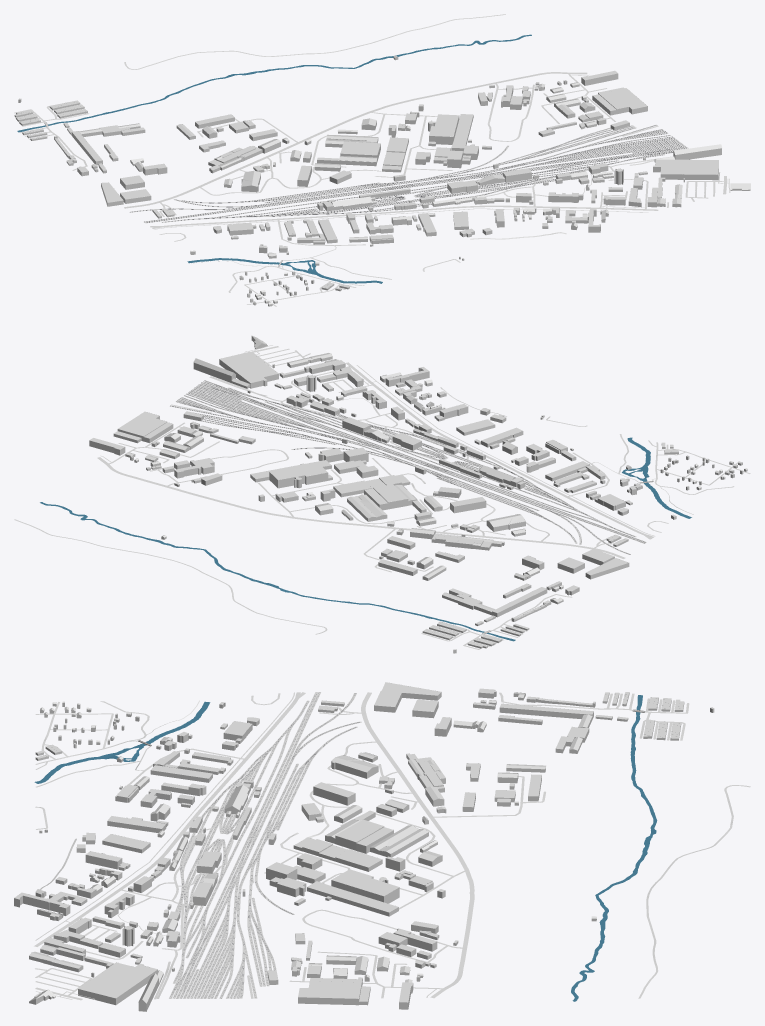
File: objekty.glb
3 renders of one model, top to bottom at view 1: azimuth 30°, elevation 25°; view 2: azimuth 150°, elevation 25°; view 3: azimuth 270°, elevation 25°, orthographic. The views are drawn at different scales.
Visible parts, largest first — view 1: Budovy_02_05, Cesty_02_05, Kolajnice_02_05, Okna_Dvere_02_05, Voda_02_05; view 2: Budovy_02_05, Cesty_02_05, Okna_Dvere_02_05, Kolajnice_02_05, Voda_02_05; view 3: Budovy_02_05, Cesty_02_05, Okna_Dvere_02_05, Voda_02_05, Kolajnice_02_05.
Part boxes in pixels (bbox=[...]): Budovy_02_05: bbox=[14, 55, 750, 306]; Cesty_02_05: bbox=[14, 14, 730, 306]; Kolajnice_02_05: bbox=[130, 125, 686, 222]; Okna_Dvere_02_05: bbox=[16, 58, 741, 305]; Voda_02_05: bbox=[17, 34, 531, 283]; Budovy_02_05: bbox=[89, 335, 747, 653]; Cesty_02_05: bbox=[14, 345, 750, 649]; Okna_Dvere_02_05: bbox=[89, 339, 746, 652]; Kolajnice_02_05: bbox=[170, 380, 645, 554]; Voda_02_05: bbox=[40, 437, 691, 641]; Budovy_02_05: bbox=[14, 682, 714, 1011]; Cesty_02_05: bbox=[34, 692, 750, 1000]; Okna_Dvere_02_05: bbox=[19, 693, 713, 1010]; Voda_02_05: bbox=[34, 695, 657, 1001]; Kolajnice_02_05: bbox=[170, 693, 359, 998].
Size of the model in its own units: 1065 by 38.14 by 1033.
